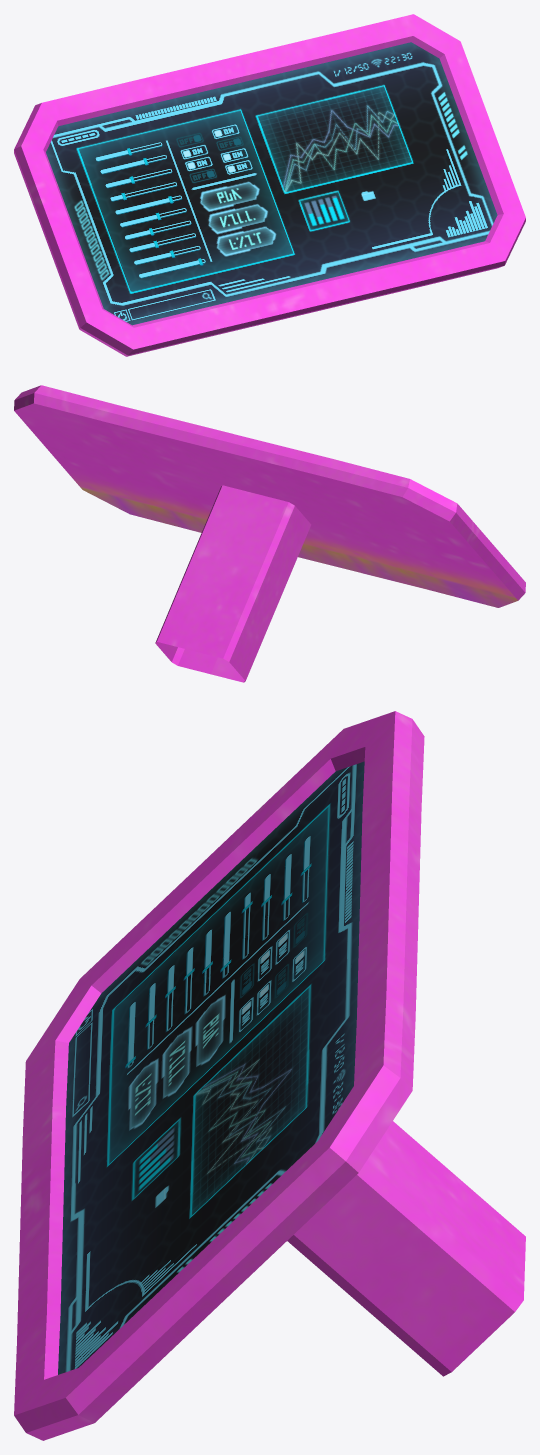
The model's file is ConsoleMonitor_03_SM_Low.fbx.
3 views of the same model, one above another, from view 1: azimuth 30°, elevation 25°; view 2: azimuth 150°, elevation 25°; view 3: azimuth 270°, elevation 25° (orthographic). The views are drawn at different scales.
Parts seen in each view (by area): view 1: tabletSecondary; view 2: tabletSecondary; view 3: tabletSecondary.
Part boxes in pixels (x1,y1,x2,y2): tabletSecondary: (14, 14, 525, 356); tabletSecondary: (14, 385, 525, 682); tabletSecondary: (14, 711, 525, 1440).
Size of the model in its own units: 36.84 by 18.34 by 18.63.
